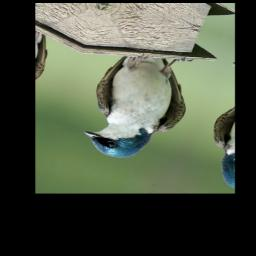Swallow: (70, 37, 208, 171)
